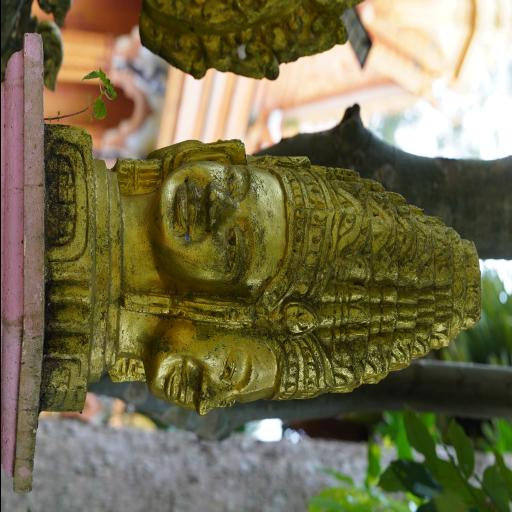ran: (0, 0, 405, 115)
than: (27, 112, 504, 434)
